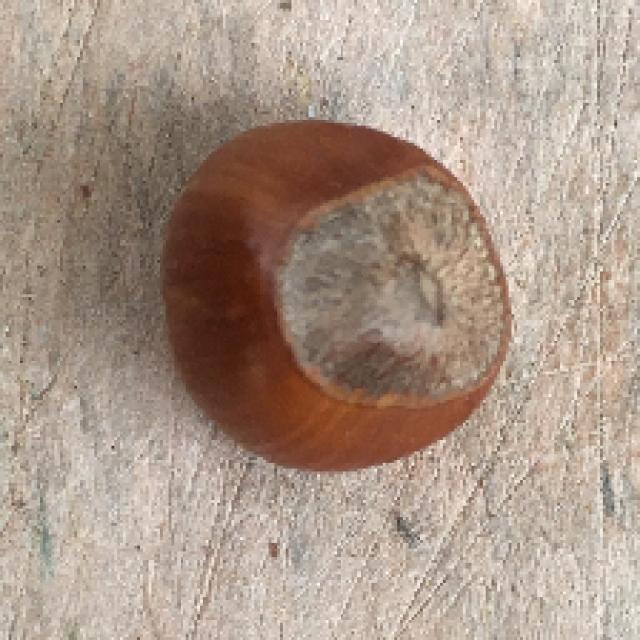damagedHazelnut: (156, 114, 512, 472)
